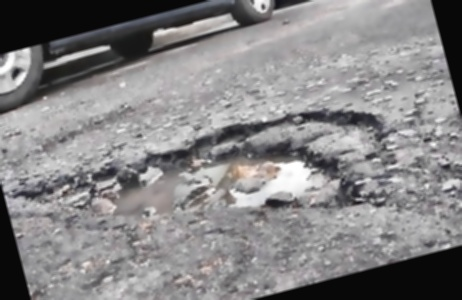pothole: (8, 84, 405, 299)
